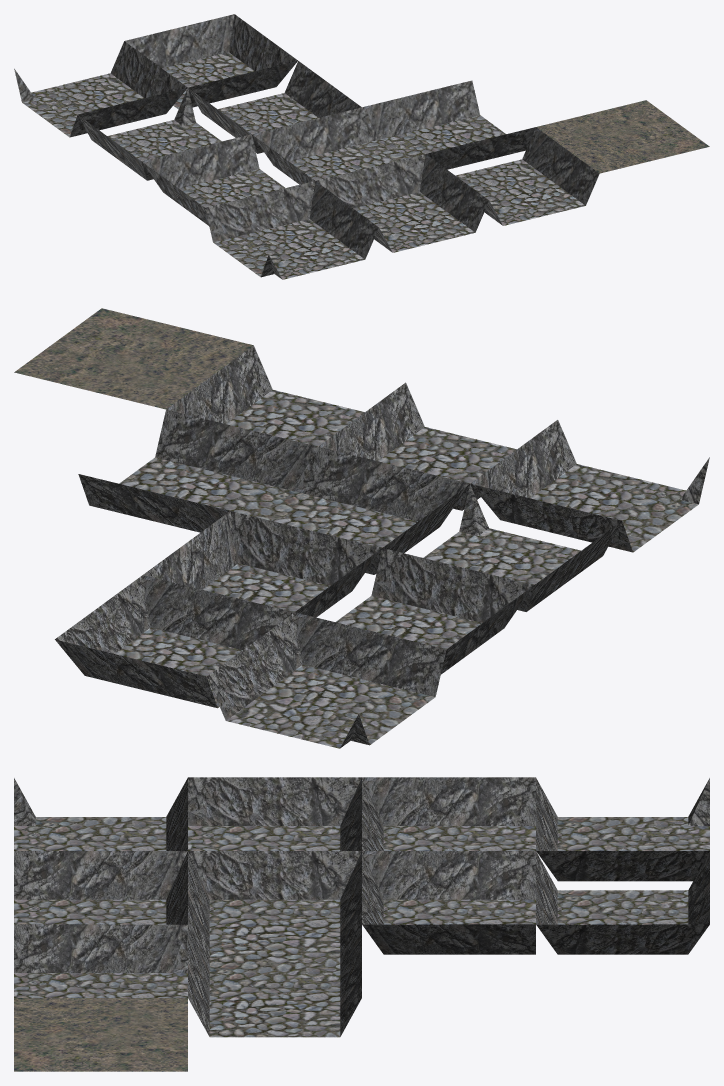
The model's file is Blocks.fbx.
3 views of the same model, one above another, from view 1: azimuth 30°, elevation 25°; view 2: azimuth 150°, elevation 25°; view 3: azimuth 270°, elevation 25° (orthographic). The views are drawn at different scales.
Parts seen in each view (by area): view 1: Corner_DR, Border_D, Border_L, Straight_RL, Corner_LD, Straight_UD, Ground, Corner_DL, Border_R, Border_U, Corner_RD; view 2: Corner_LD, Border_L, Straight_RL, Corner_DR, Border_U, Ground, Corner_RD, Border_R, Border_D, Straight_UD, Corner_DL; view 3: Border_R, Border_U, Straight_RL, Ground, Straight_UD, Border_D, Corner_DL, Corner_RD, Corner_LD, Border_L, Corner_DR.
Part boxes in pixels (x1,y1,x2,y2): Corner_DR: (205,181,378,279); Border_D: (316,154,489,252); Border_L: (125,14,297,109); Straight_RL: (362,80,535,169); Corner_LD: (14,41,187,137); Straight_UD: (455,127,599,225); Ground: (536,100,709,173); Corner_DL: (141,134,284,225); Border_R: (252,107,395,184); Border_U: (188,61,361,153); Corner_RD: (78,88,221,180); Corner_LD: (207,612,446,748); Border_L: (55,575,293,708); Straight_RL: (78,409,317,532); Corner_DR: (470,420,709,552); Border_U: (143,511,381,617); Ground: (14,308,253,409); Corner_RD: (335,548,534,674); Border_R: (271,446,469,574); Border_D: (318,382,516,510); Straight_UD: (166,345,364,446); Corner_DL: (423,484,621,611); Border_R: (188,851,361,963); Border_U: (362,851,535,954); Straight_RL: (188,925,361,1037); Ground: (14,998,187,1071); Straight_UD: (14,924,187,997); Border_D: (14,851,187,924); Corner_DL: (188,777,361,850); Corner_RD: (362,777,535,850); Corner_LD: (536,778,709,881); Border_L: (536,851,709,954); Corner_DR: (14,778,187,850).
Bounding box in the file's own units: 8 × 0.5 × 8.
